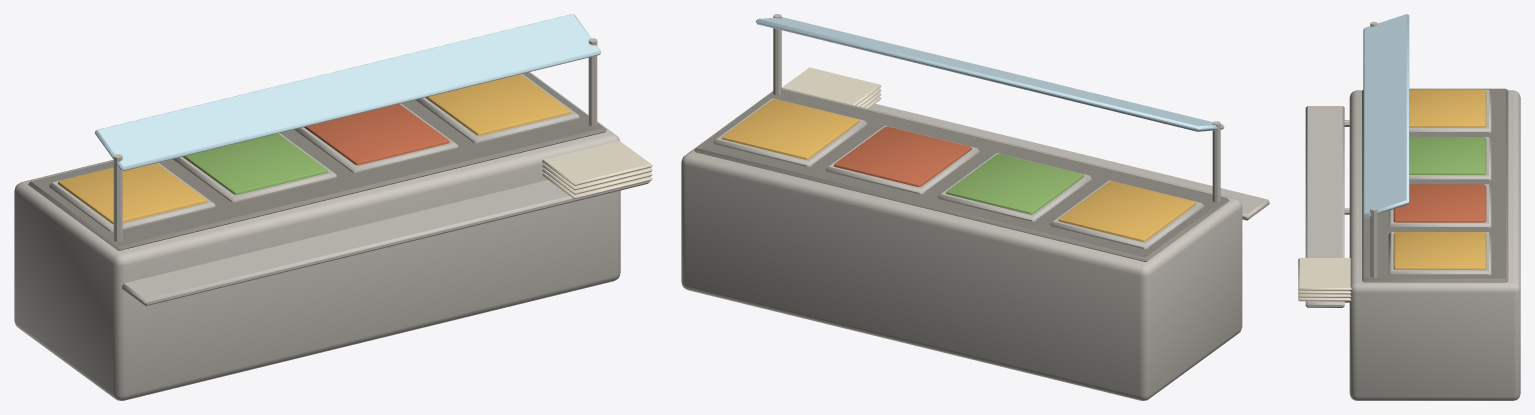
The model's file is serving_counter.glb.
3 views of the same model, side by side, from view 1: azimuth 30°, elevation 25°; view 2: azimuth 150°, elevation 25°; view 3: azimuth 270°, elevation 25° (orthographic). The views are drawn at different scales.
Parts seen in each view (by area): view 1: steel, glass, steel_dark, food_a, food_c, food_b, cream; view 2: steel, steel_dark, food_a, glass, food_b, food_c, cream; view 3: steel, glass, steel_dark, food_a, food_c, food_b, cream.
Part boxes in pixels (<box>): steel: <box>14,38,649,400</box>; glass: <box>95,14,600,170</box>; steel_dark: <box>28,72,606,250</box>; food_a: <box>58,74,570,224</box>; food_c: <box>304,104,449,165</box>; food_b: <box>183,133,328,194</box>; cream: <box>542,140,652,198</box>; steel: <box>681,14,1269,400</box>; steel_dark: <box>694,89,1229,261</box>; food_a: <box>721,99,1196,241</box>; glass: <box>755,17,1224,131</box>; food_b: <box>946,154,1084,214</box>; food_c: <box>834,126,971,186</box>; cream: <box>782,67,881,108</box>; steel: <box>1305,21,1520,400</box>; glass: <box>1363,14,1409,217</box>; steel_dark: <box>1362,88,1508,282</box>; food_a: <box>1393,89,1486,269</box>; food_c: <box>1393,184,1486,222</box>; food_b: <box>1409,137,1486,174</box>; cream: <box>1298,258,1351,301</box>.
Bounding box in the file's own units: 1.92 × 0.8909 × 0.91.
